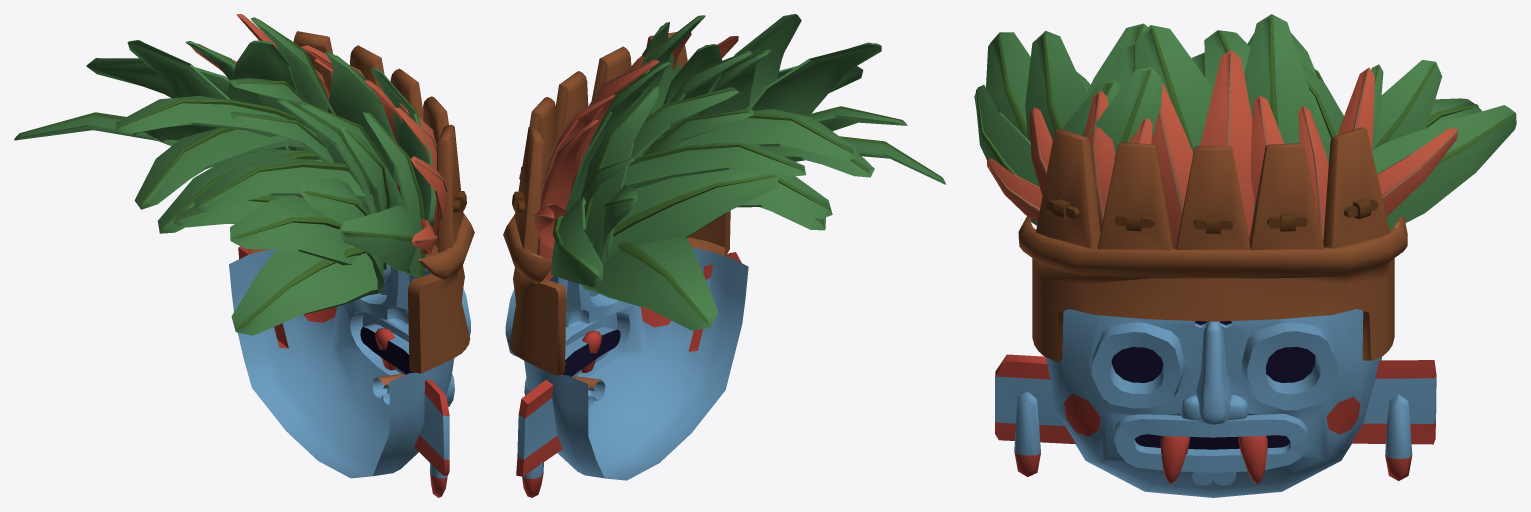
File: TlalocMask.fbx
3 views of the same model, side by side, from view 1: azimuth 30°, elevation 25°; view 2: azimuth 150°, elevation 25°; view 3: azimuth 270°, elevation 25° (orthographic). The views are drawn at different scales.
Visible parts, largest first — view 1: Cylinder.025; view 2: Cylinder.025; view 3: Cylinder.025.
Boxes of the visible parts, left/top/right/bottom form: Cylinder.025: left=14, top=14, right=474, bottom=497; Cylinder.025: left=503, top=14, right=945, bottom=497; Cylinder.025: left=974, top=14, right=1516, bottom=497.
Size of the model in its own units: 228 by 319 by 346.
